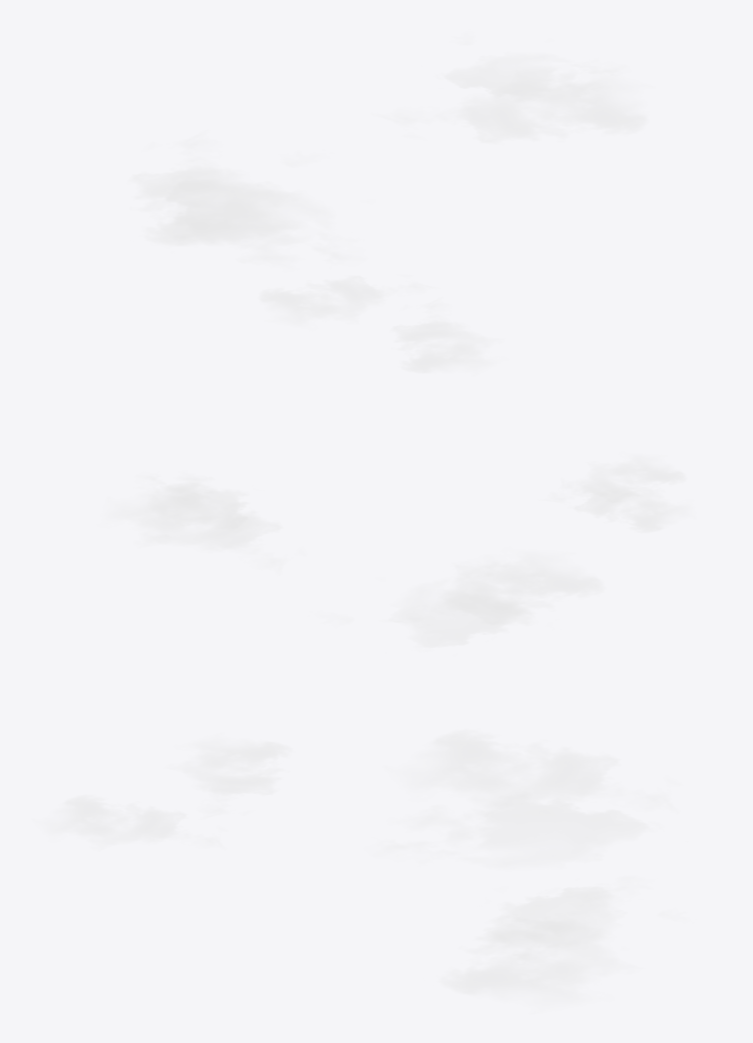
The model's file is dubai_clouds.glb.
The picture shows the model from 3 angles, top to bottom: view 1: azimuth 30°, elevation 25°; view 2: azimuth 150°, elevation 25°; view 3: azimuth 270°, elevation 25°; orthographic projection. The views are drawn at different scales.
Visible parts, largest first — view 1: cloud_03, cloud_04, cloud_06, cloud_05, cloud_02, cloud_01; view 2: cloud_03, cloud_04, cloud_06, cloud_05, cloud_02, cloud_01; view 3: cloud_03, cloud_04, cloud_06, cloud_05, cloud_02, cloud_01.
Part boxes in pixels (x1,y1,x2,y2): cloud_03: (130,135,288,245); cloud_04: (384,76,647,143); cloud_06: (167,163,348,262); cloud_05: (444,43,618,101); cloud_02: (259,276,429,324); cloud_01: (392,300,493,372); cloud_03: (393,553,603,624); cloud_04: (109,483,283,569); cloud_06: (346,561,531,647); cloud_05: (146,476,247,536); cloud_02: (562,481,688,532); cloud_01: (552,455,685,501); cloud_03: (405,730,671,810); cloud_04: (440,890,628,1004); cloud_06: (384,795,648,880); cloud_05: (484,886,664,959); cloud_02: (177,739,291,816); cloud_01: (46,795,221,846).
Bounding box in the file's own units: 682 × 67.25 × 663.
2 materials, 2 textured.
